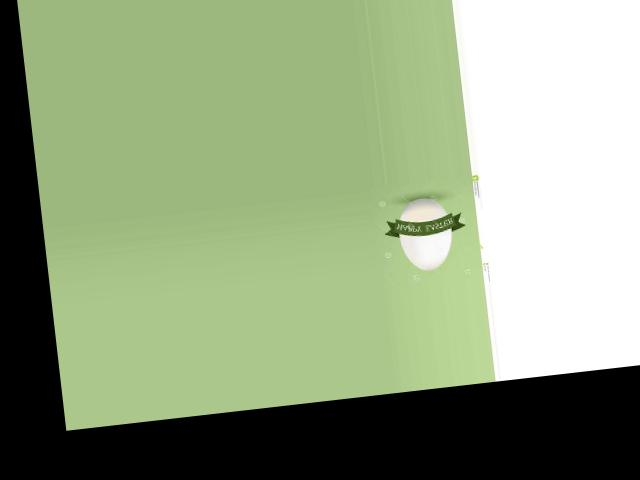egg: (396, 195, 456, 272)
